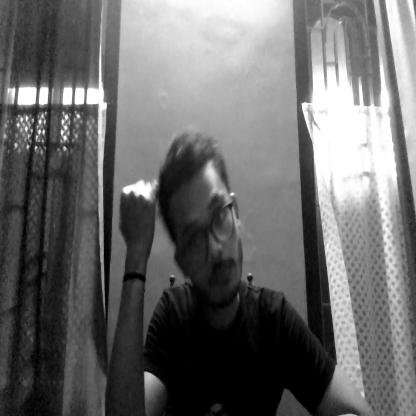Distracted: (150, 128, 250, 306)
